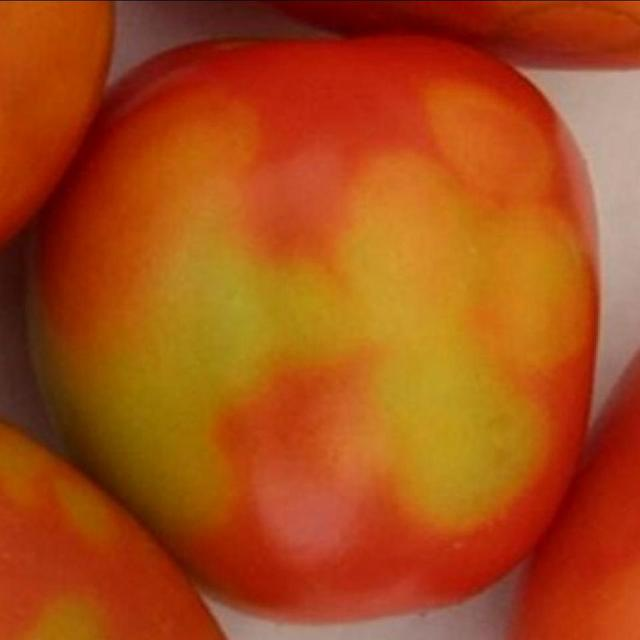Spotted wilt Virus Fruit: (16, 22, 399, 417)
